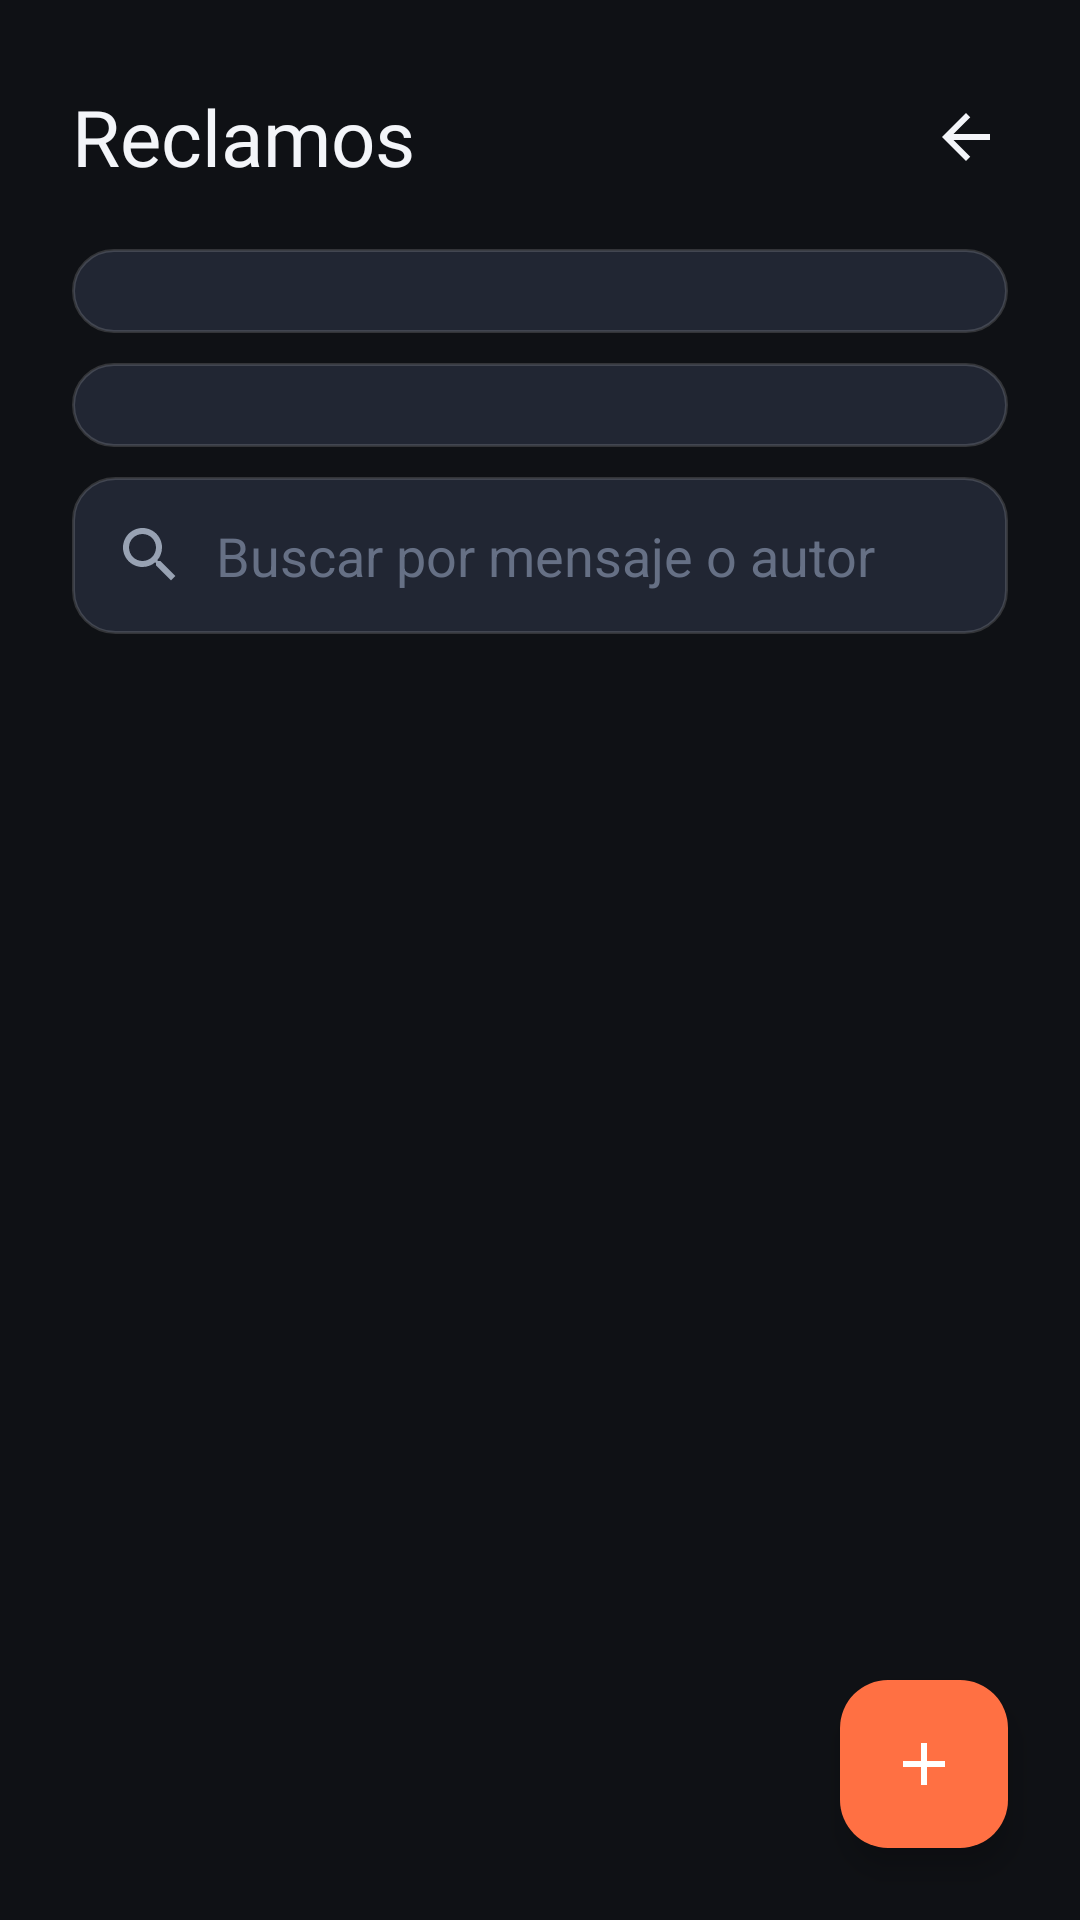

Where icons sit on this 1080x1920 app screen, as (x1, y1, x2, y2):
Nuevo reclamo: (840, 1680, 1008, 1848)
Volver: (942, 113, 990, 161)
